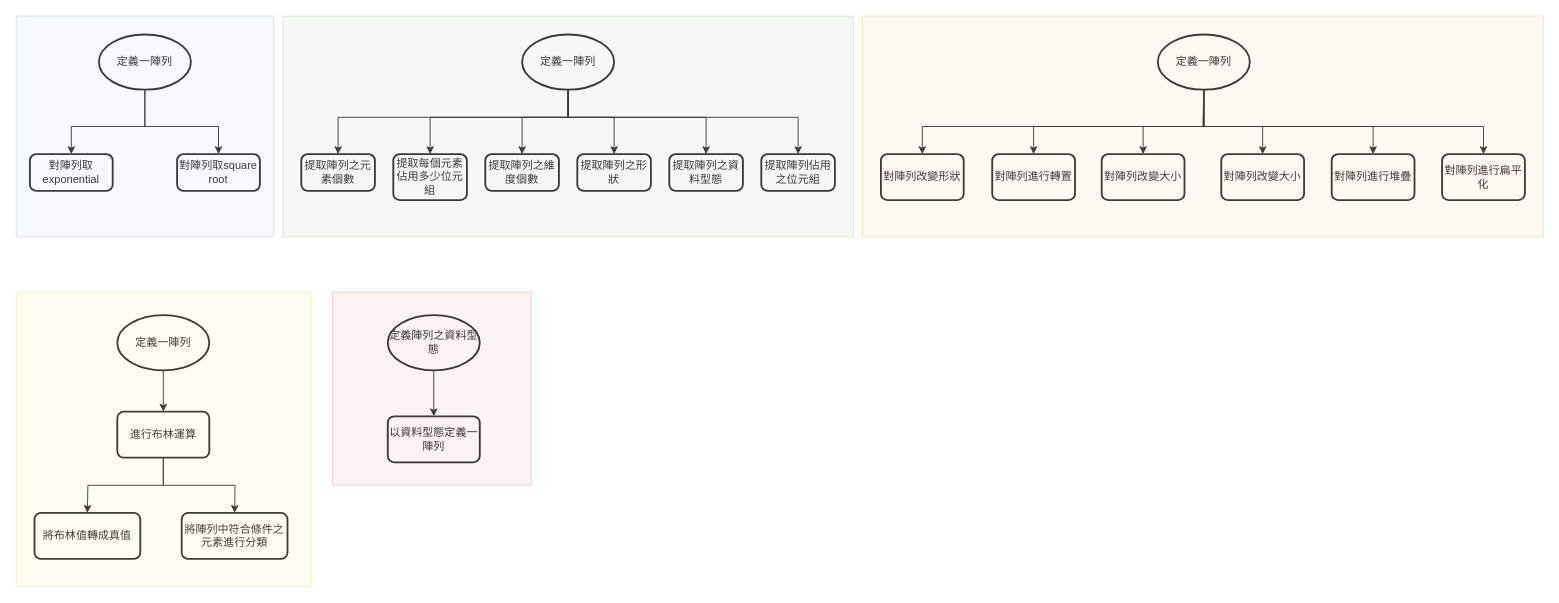
This 1559x603 diagram has some shape labels left out. Here are the shapes that lost their labels. From the top down, the box of each, then its label:
(15, 15, 274, 237): Universal function
(282, 15, 853, 237): Metainformation
(862, 15, 1543, 237): Reshaping and Resizing
(332, 291, 531, 485): Structure Numpy Array
(15, 291, 310, 586): Boolean Array
